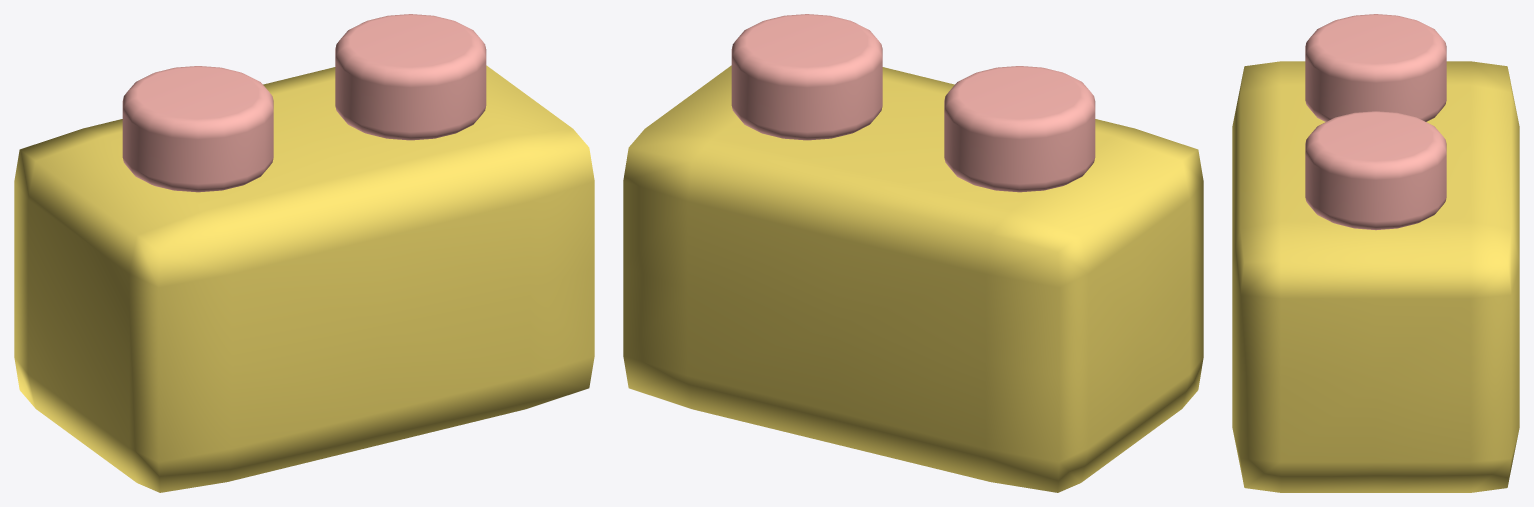
File: BigBadVacuumBrick.glb
The picture shows the model from 3 angles, left to right: view 1: azimuth 30°, elevation 25°; view 2: azimuth 150°, elevation 25°; view 3: azimuth 270°, elevation 25°; orthographic projection. The views are drawn at different scales.
Parts seen in each view (by area): view 1: Body, Stud; view 2: Body, Stud; view 3: Body, Stud.
Boxes of the visible parts, x1,y1,x2,y2 form: Body: [14, 65, 594, 492]; Stud: [122, 14, 486, 192]; Body: [623, 65, 1203, 492]; Stud: [731, 14, 1095, 192]; Body: [1232, 61, 1519, 492]; Stud: [1305, 14, 1446, 230].
Bounding box in the file's own units: 3.4 × 2.4 × 2.
